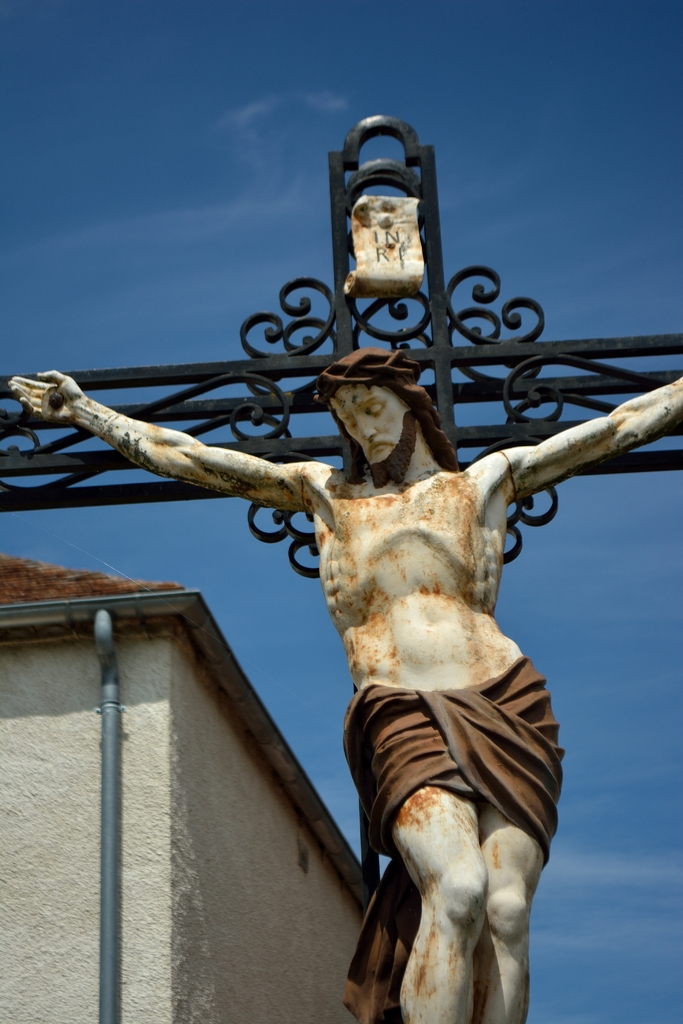Person: (7, 346, 683, 1024)
